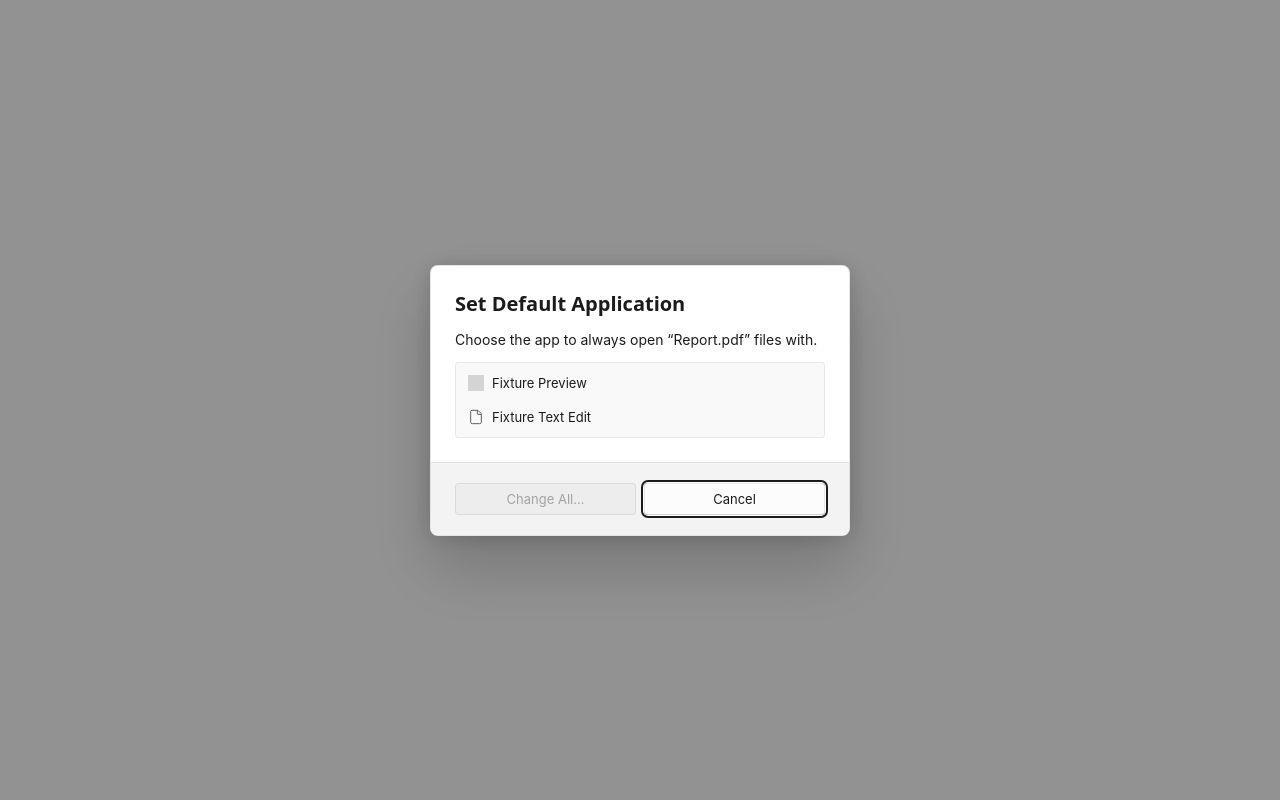
Test: DefaultAppDialog › shows the mapped inline error and stays open when the backend reports a failure
This screenshot has width=1280, height=800.
What coordinates should you click on to do the following:
click the option "Fixture Preview"
I would click on:
 (539, 382)
Its box is 460,366 -> 820,398.
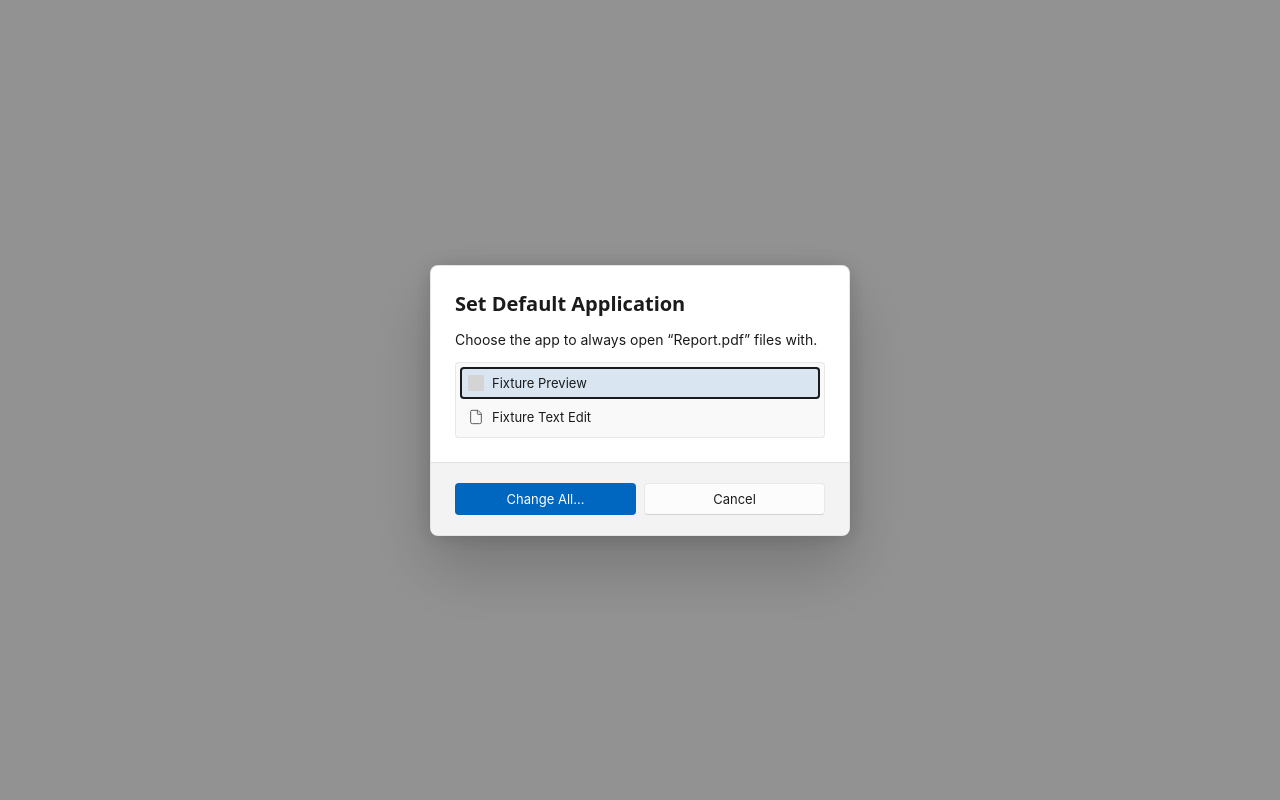
What coordinates should you click on to do the following:
click the button "Change All…"
I would click on:
 (546, 498)
Its box is 455,482 -> 636,514.
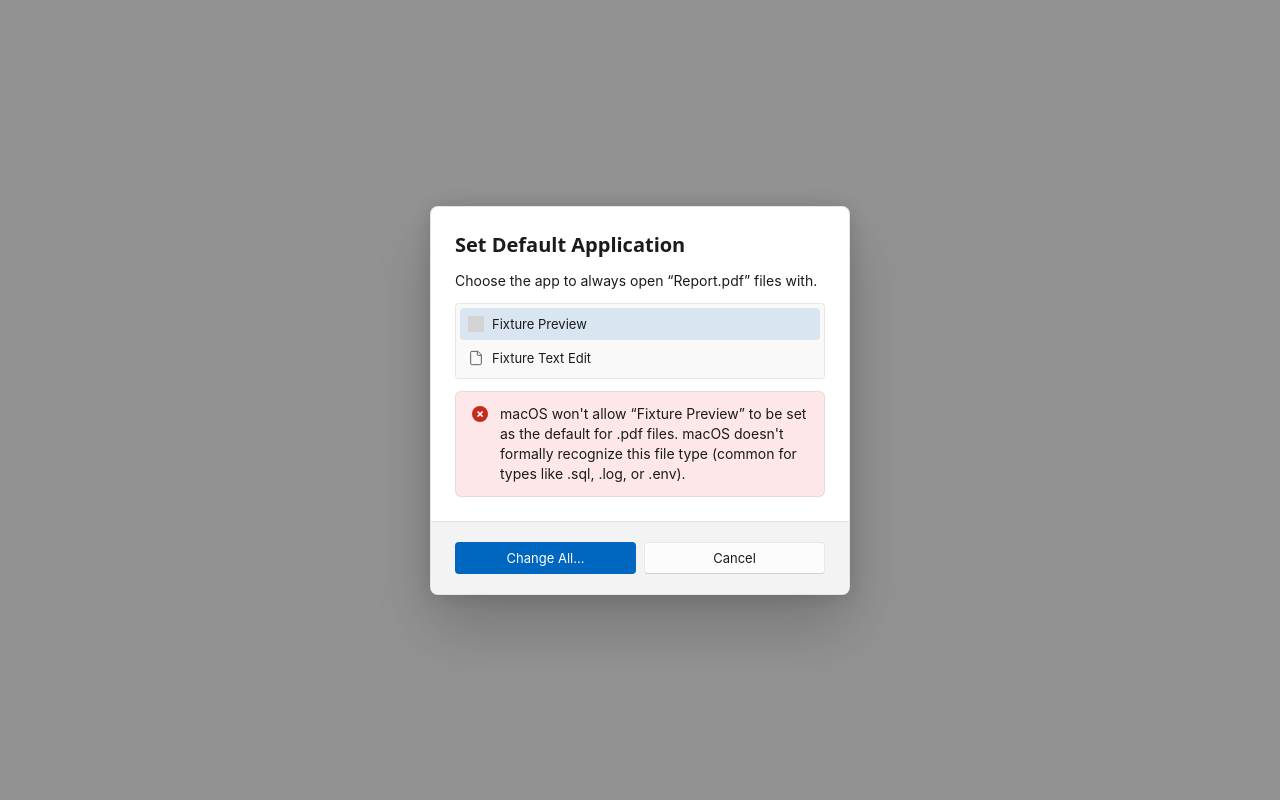
expect the button "Change All…" is enabled: met, box 455,542 -> 636,574
expect the message shows "Fixture Preview": met, box 500,404 -> 806,482
expect the message shows ".pdf": met, box 500,404 -> 806,482
